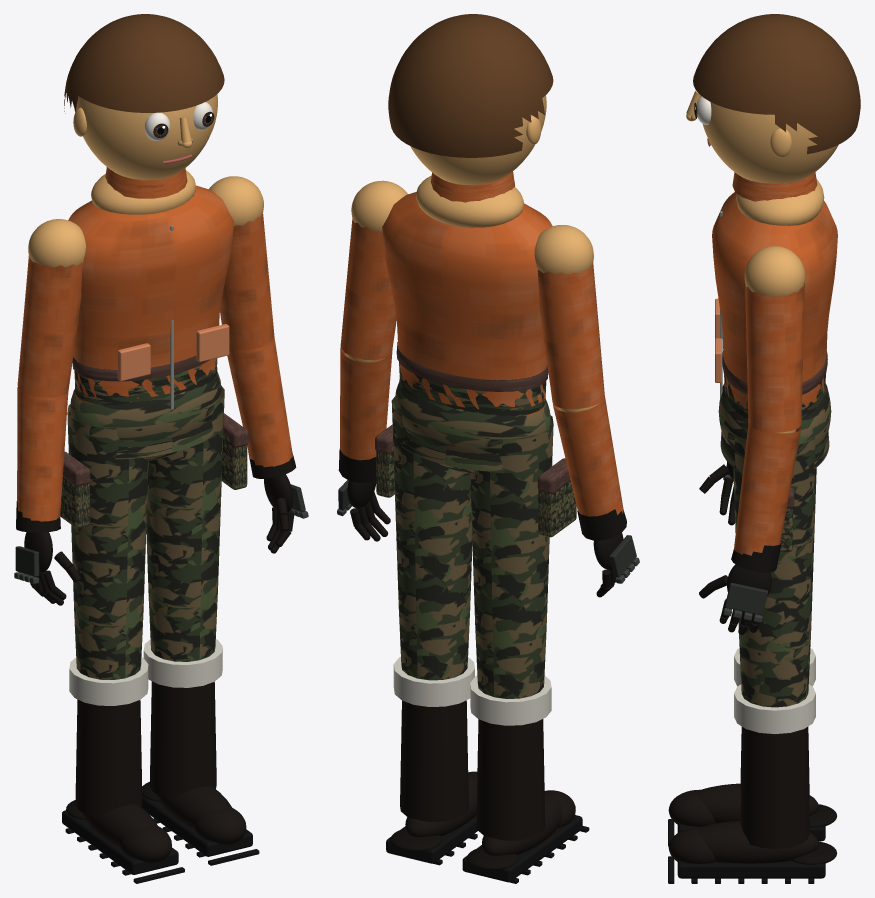
Rendered from 06-bottes-de-neige.glb.
The picture shows the model from 3 angles, left to right: view 1: azimuth 30°, elevation 25°; view 2: azimuth 150°, elevation 25°; view 3: azimuth 270°, elevation 25°; orthographic projection. The views are drawn at different scales.
Size of the model in its own units: 0.6344 by 1.77 by 0.3715.
24 materials, 4 textured.
